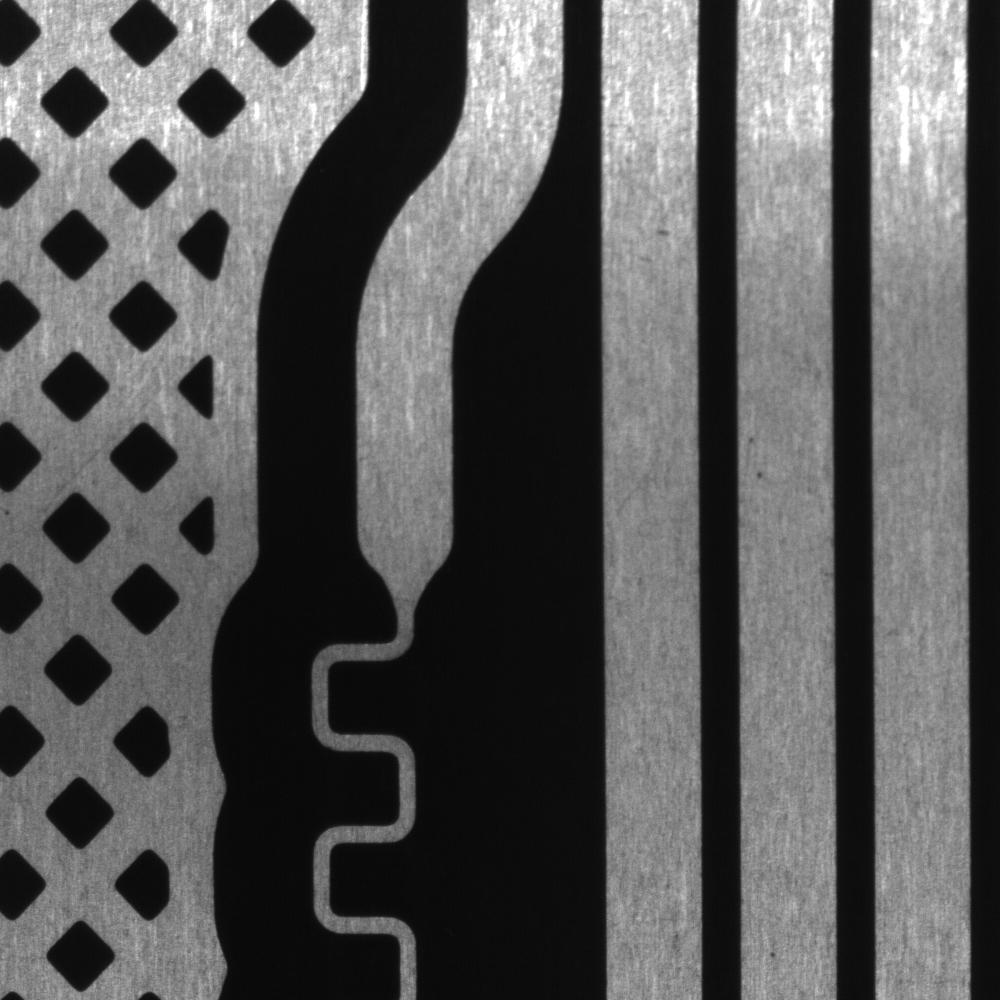Etching: (651, 222, 675, 245)
Pinhole: (740, 419, 769, 453), (758, 940, 790, 967), (752, 464, 774, 489)
Scar: (47, 376, 172, 508), (607, 444, 668, 524)
